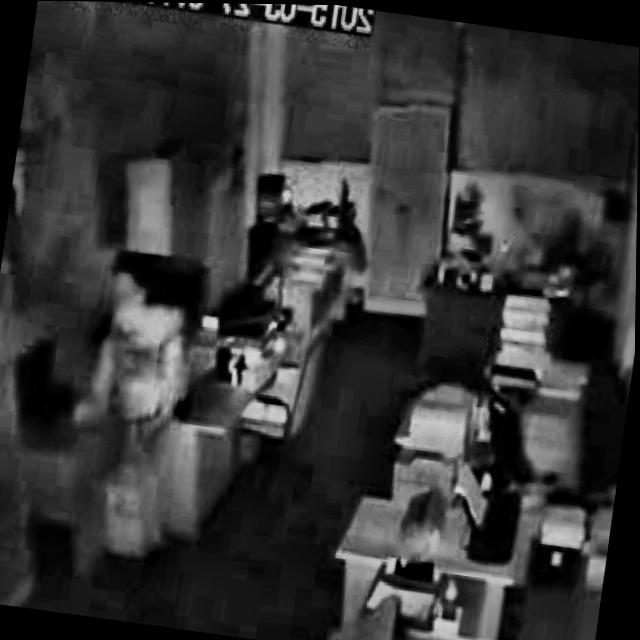burglary: (49, 263, 242, 582)
